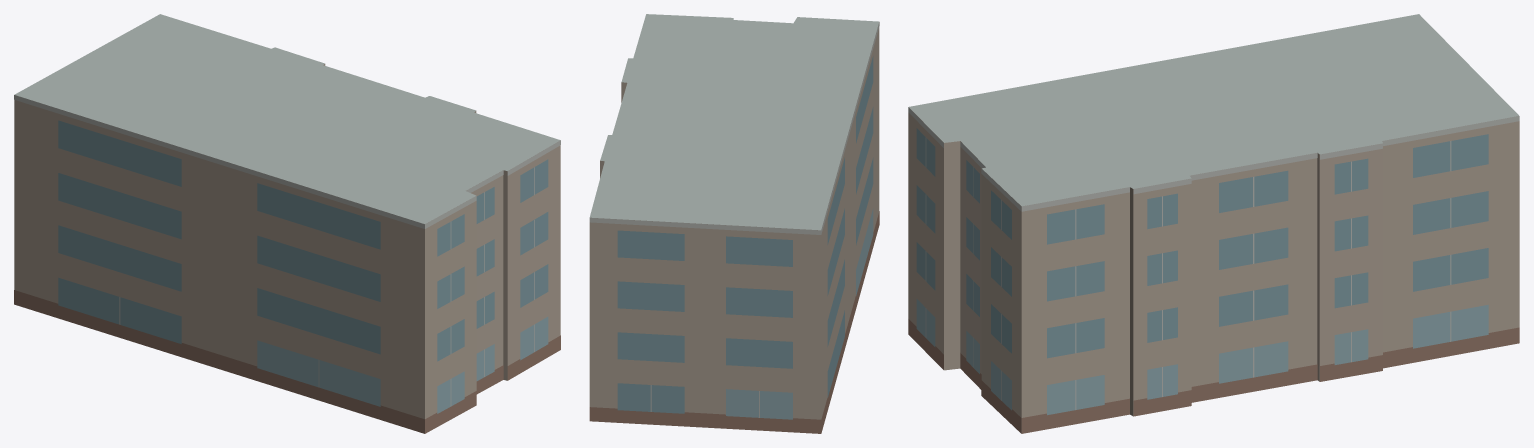
File: survey-upis-32602584.glb
3 views of the same model, side by side, from view 1: azimuth 30°, elevation 25°; view 2: azimuth 150°, elevation 25°; view 3: azimuth 270°, elevation 25° (orthographic). The views are drawn at different scales.
Parts seen in each view (by area): view 1: survey-upis-32602584.tmp; view 2: survey-upis-32602584.tmp; view 3: survey-upis-32602584.tmp.
Part boxes in pixels (x1,y1,x2,y2): survey-upis-32602584.tmp: (14,14,560,433); survey-upis-32602584.tmp: (589,14,879,433); survey-upis-32602584.tmp: (908,14,1519,433).
Size of the model in its own units: 18.88 by 10.4 by 25.33.
